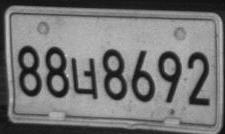2: (186, 51, 211, 106)
6: (130, 49, 156, 103)
8: (101, 47, 128, 101), (44, 46, 70, 98), (17, 44, 42, 97)
9: (156, 49, 183, 103)
너: (70, 57, 97, 99)
